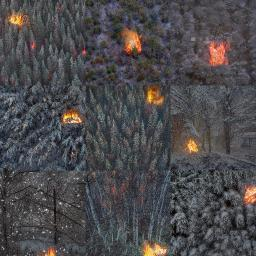Small fire: (203, 33, 233, 70), (118, 22, 144, 55), (136, 237, 180, 256), (61, 106, 87, 129), (5, 7, 29, 28), (242, 179, 256, 210), (146, 84, 165, 105), (183, 136, 204, 154), (38, 247, 60, 256)
